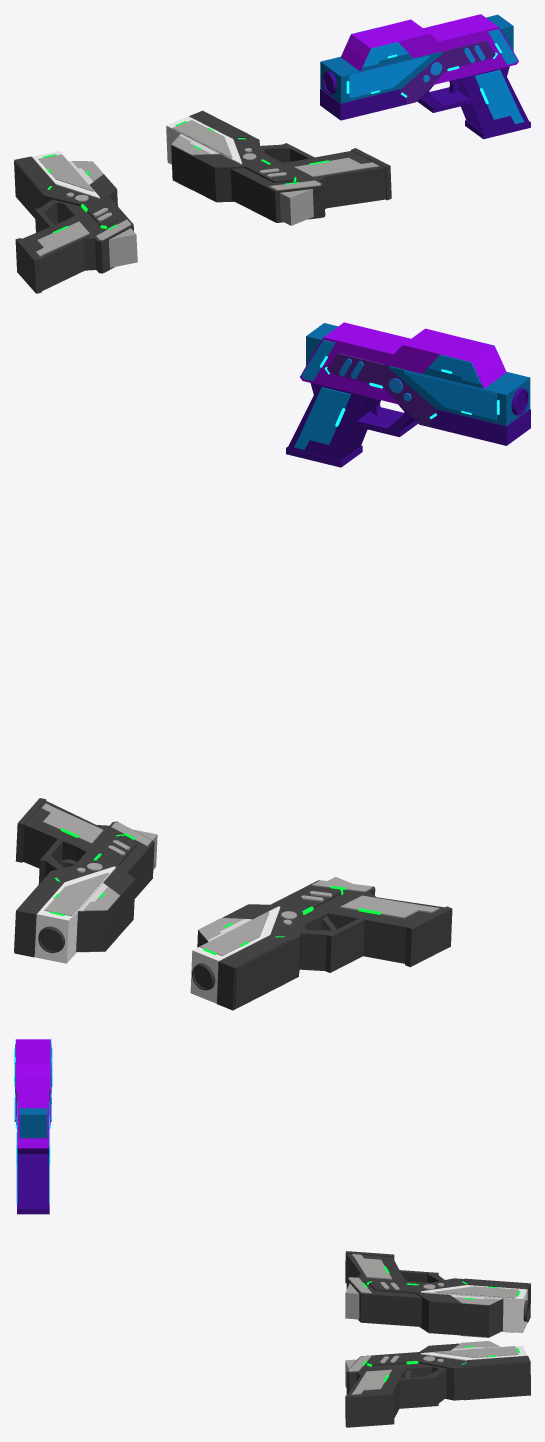
Rendered from Sci-Fi Pistol(Neutral).fbx.
The picture shows the model from 3 angles, top to bottom: view 1: azimuth 30°, elevation 25°; view 2: azimuth 150°, elevation 25°; view 3: azimuth 270°, elevation 25°; orthographic projection. The views are drawn at different scales.
Visible parts, largest first — view 1: Cube.003, Cube.025, Cube.044, Cube, Cube.022, Cube.047, Cube.045, Cube.023, Cube.029, Cube.030, Cube.028, Cube.027 (+18 smaller); view 2: Cube.025, Cube.044, Cube.003, Cube.045, Cube.022, Cube.046, Cube, Cube.023, Cube.029, Cube.030, Cube.028, Cube.007 (+12 smaller); view 3: Cube.047, Cube.001, Cube.025, Cube, Cube.022, Cube.002, Cube.003, Cube.051, Cube.044, Cube.026, Cube.045, Cube.052 (+6 smaller).
Boxes of the visible parts, <box> form: Cube.003: <box>171,145,325,222</box>; Cube.025: <box>341,14,518,84</box>; Cube.044: <box>15,216,96,293</box>; Cube: <box>283,148,391,208</box>; Cube.022: <box>457,66,530,139</box>; Cube.047: <box>63,174,133,273</box>; Cube.045: <box>14,161,117,226</box>; Cube.023: <box>341,40,495,120</box>; Cube.029: <box>320,51,442,103</box>; Cube.030: <box>349,56,429,98</box>; Cube.028: <box>320,89,406,120</box>; Cube.027: <box>474,70,524,124</box>; Cube.025: <box>300,322,506,404</box>; Cube.044: <box>327,892,452,967</box>; Cube.003: <box>75,821,154,951</box>; Cube.045: <box>234,887,341,1009</box>; Cube.022: <box>286,382,371,467</box>; Cube.046: <box>299,916,364,972</box>; Cube: <box>15,798,109,868</box>; Cube.023: <box>327,353,506,445</box>; Cube.029: <box>389,366,530,425</box>; Cube.030: <box>404,371,496,420</box>; Cube.028: <box>430,409,530,445</box>; Cube.007: <box>34,866,115,963</box>; Cube.047: <box>346,1277,503,1337</box>; Cube.001: <box>369,1354,529,1400</box>; Cube.025: <box>16,1039,50,1149</box>; Cube: <box>345,1368,405,1427</box>; Cube.022: <box>17,1149,49,1214</box>; Cube.002: <box>399,1367,446,1408</box>; Cube.003: <box>346,1343,459,1395</box>; Cube.051: <box>421,1285,527,1332</box>; Cube.044: <box>345,1251,405,1283</box>; Cube.026: <box>19,1108,47,1138</box>; Cube.045: <box>369,1278,467,1293</box>; Cube.052: <box>434,1286,518,1332</box>.
Size of what is drawn, in the model's own units: 2049 by 1895 by 2896.
